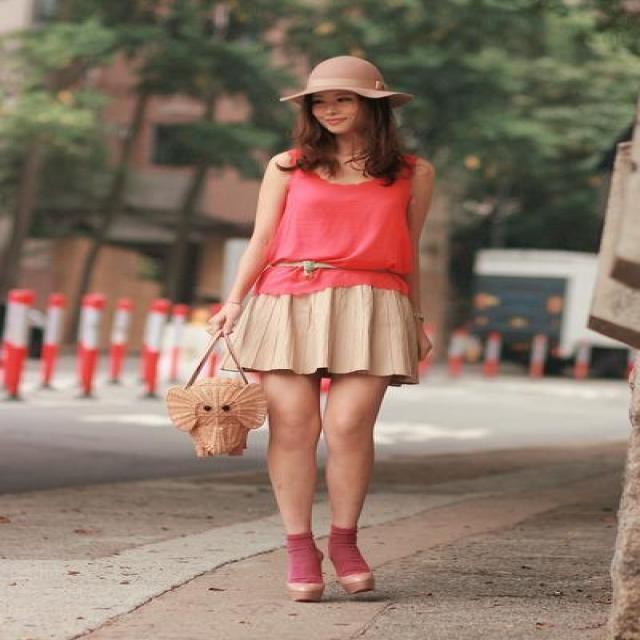bag: (144, 346, 277, 456)
hat: (280, 53, 400, 110)
shirt: (242, 154, 420, 293)
shoe: (259, 525, 368, 594)
skirt: (206, 284, 405, 384)
